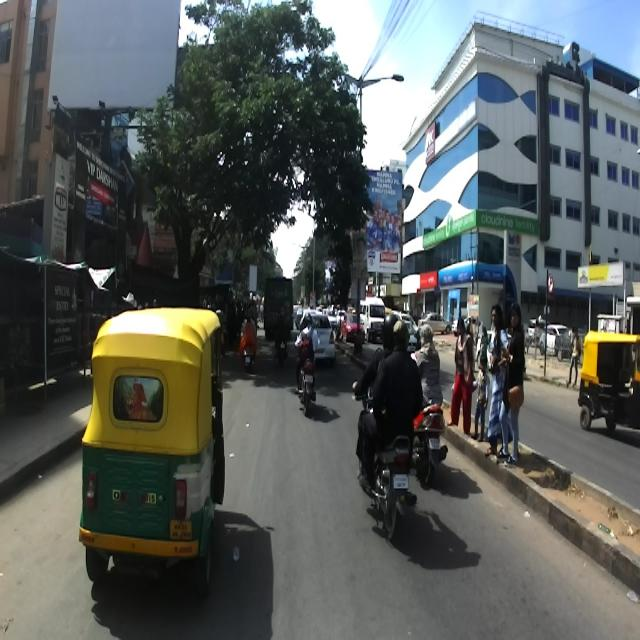autorickshaw: (78, 306, 226, 594), (577, 330, 639, 430)
motorcycle: (352, 380, 417, 542), (294, 336, 320, 413)
scooter: (411, 404, 448, 487)
